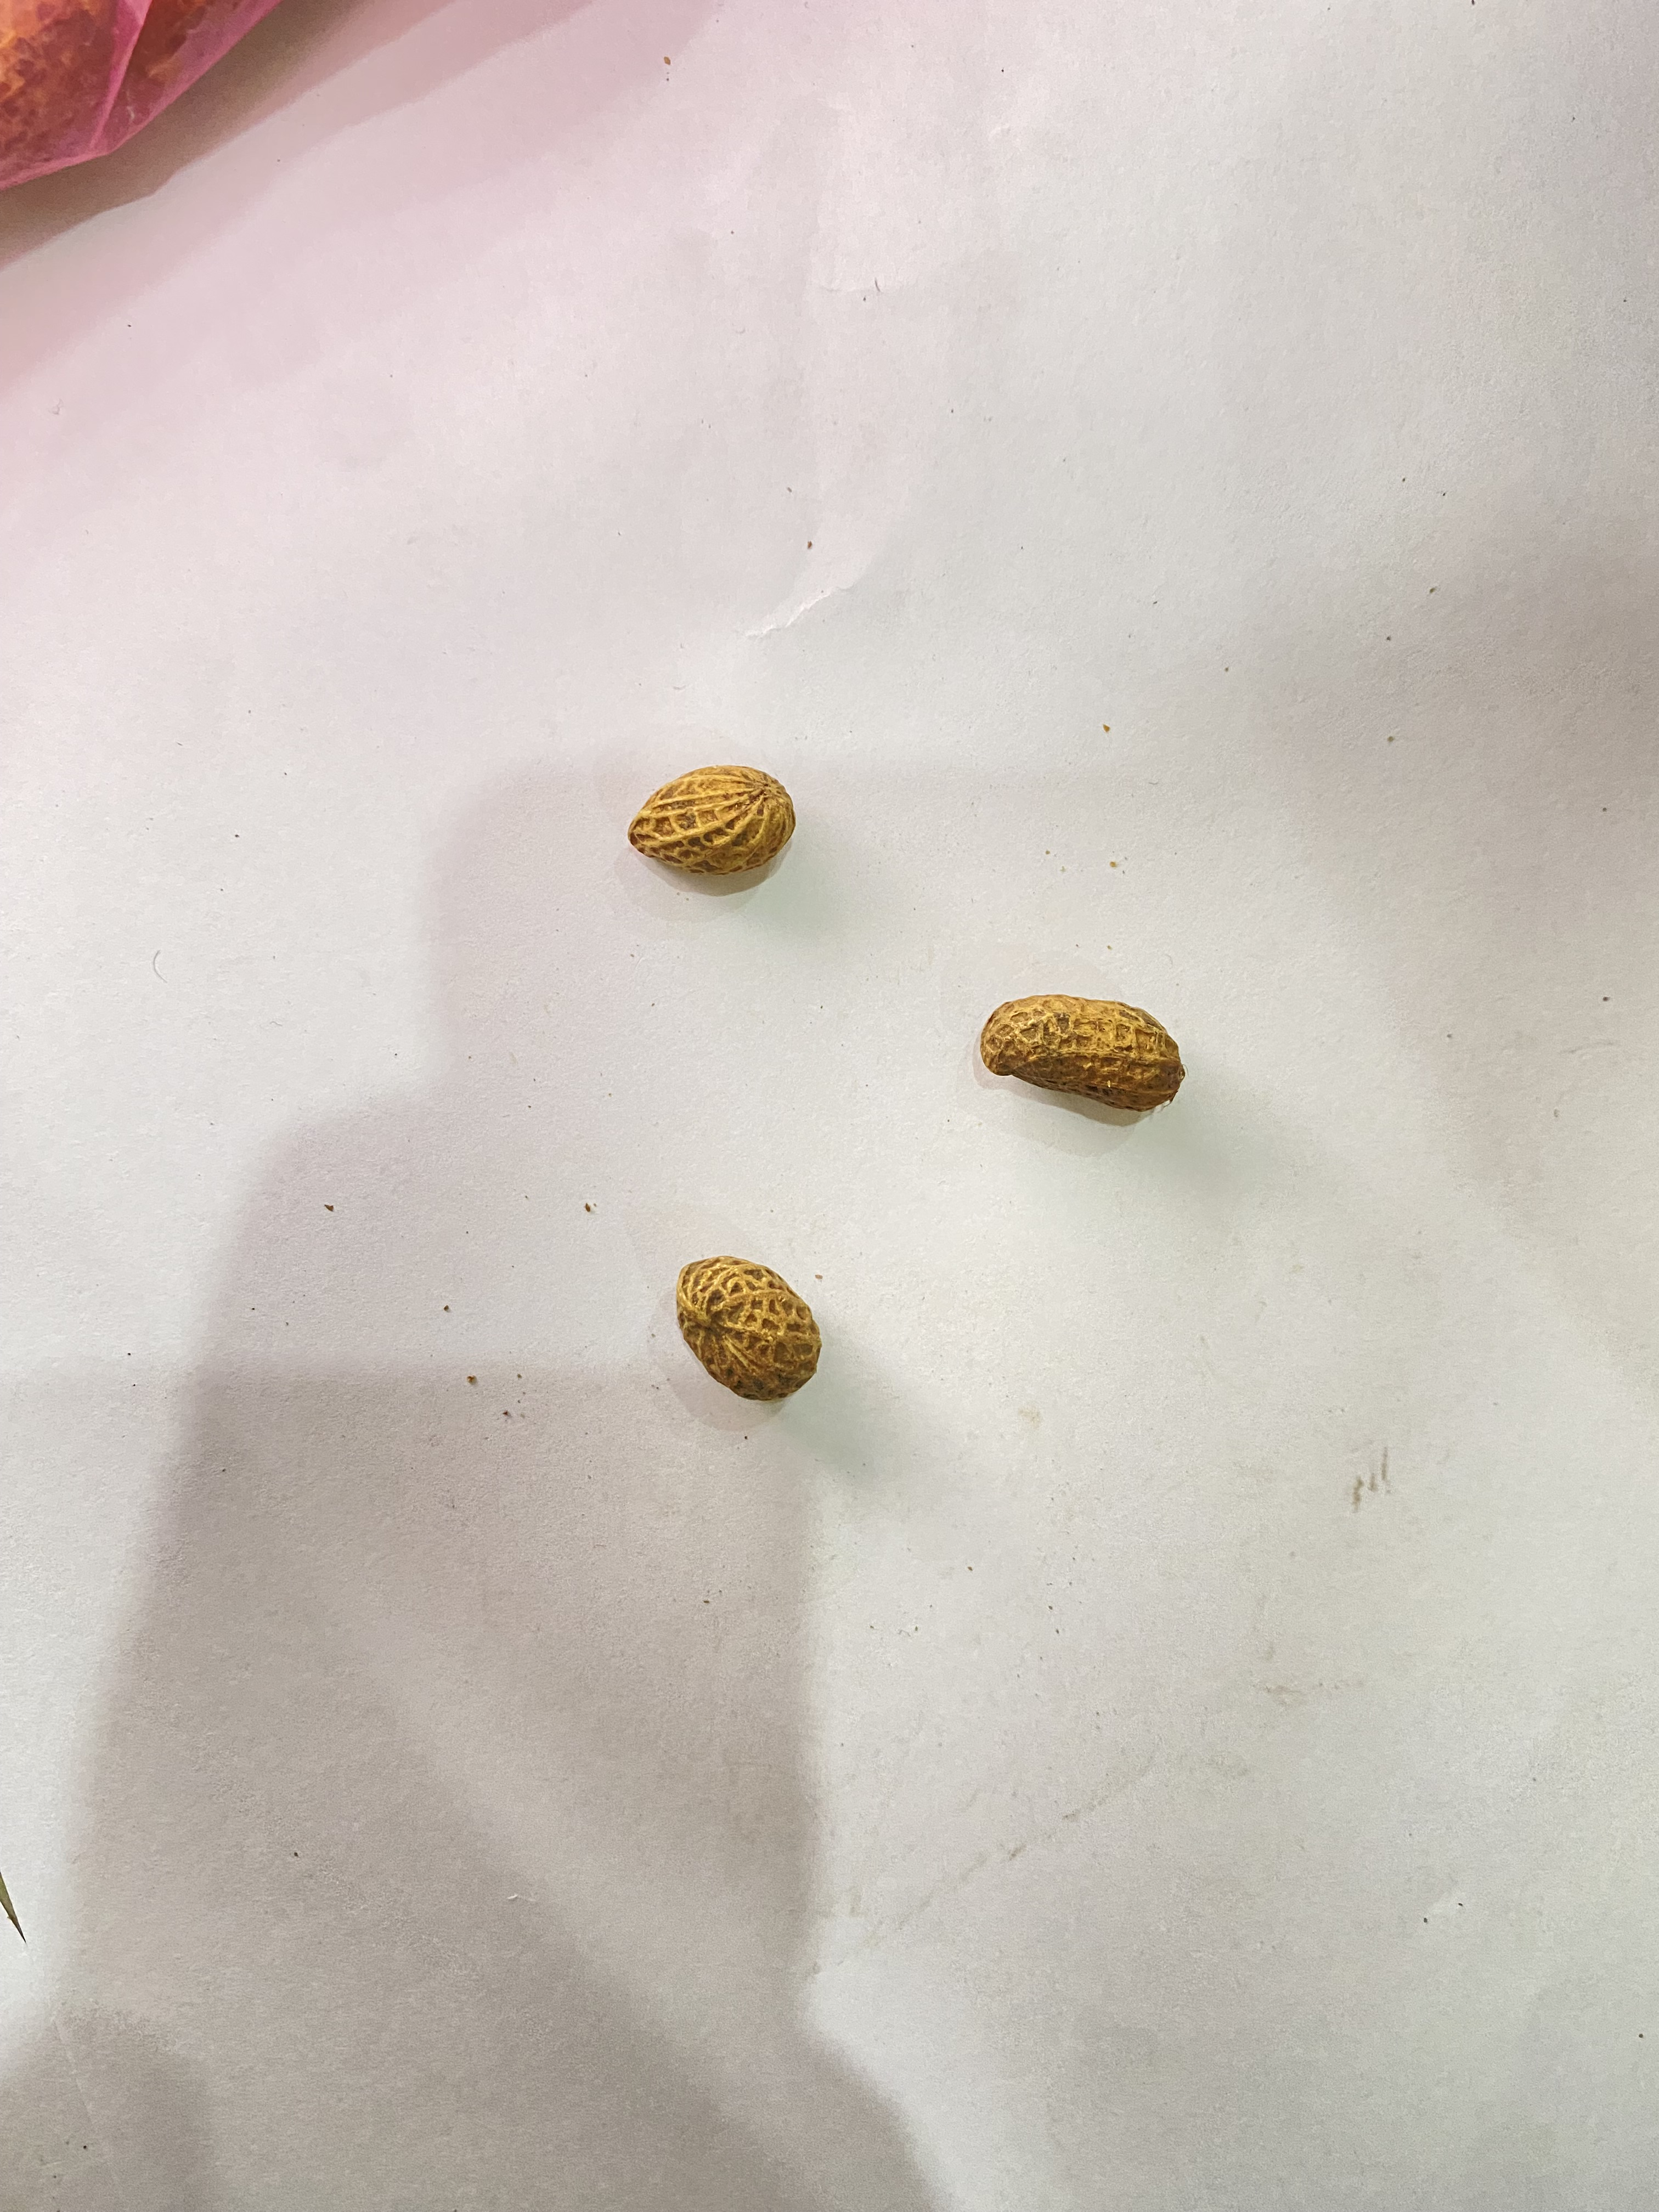kacang1: (591, 1188, 854, 1453), (594, 688, 852, 932), (955, 958, 1195, 1148)
